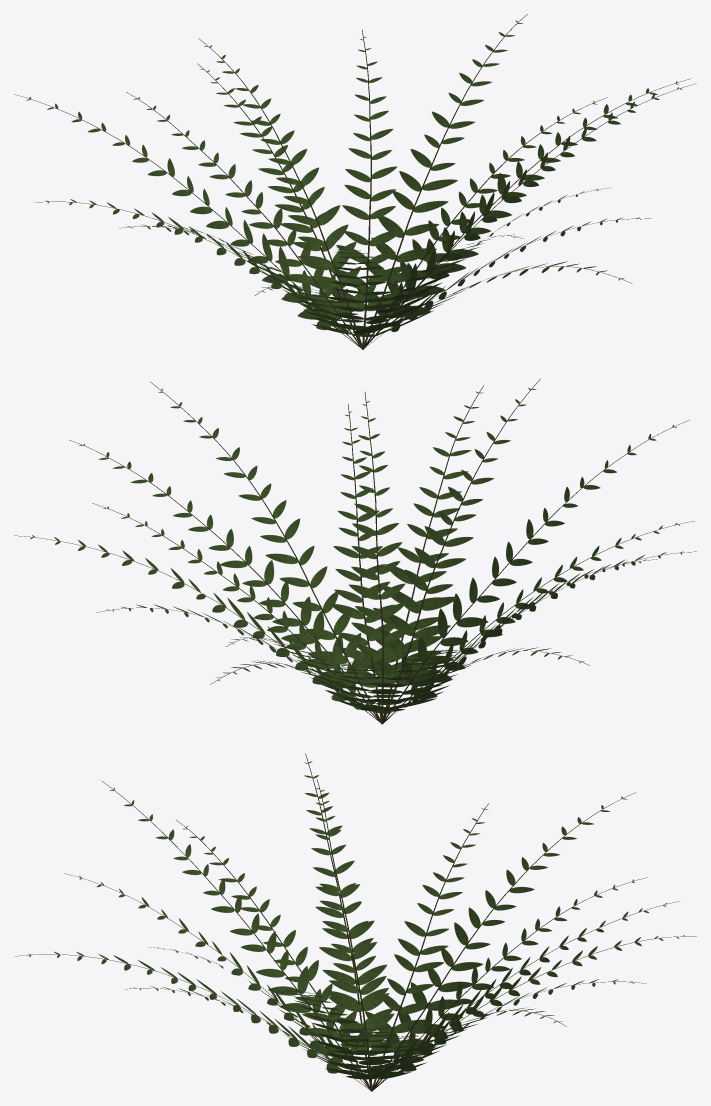
The model's file is lady_fern_v02_LOD1.glb.
3 renders of one model, top to bottom at view 1: azimuth 30°, elevation 25°; view 2: azimuth 150°, elevation 25°; view 3: azimuth 270°, elevation 25°, orthographic. The views are drawn at different scales.
Visible parts, largest first — view 1: lady_fern_v02_LOD1; view 2: lady_fern_v02_LOD1; view 3: lady_fern_v02_LOD1.
Part boxes in pixels (x1,y1,x2,y2): lady_fern_v02_LOD1: (14,14,696,349); lady_fern_v02_LOD1: (14,378,696,724); lady_fern_v02_LOD1: (14,753,696,1091).
Size of the model in its own units: 1.37 by 0.5274 by 1.41.
Materials: 2 (2 with a texture image).
